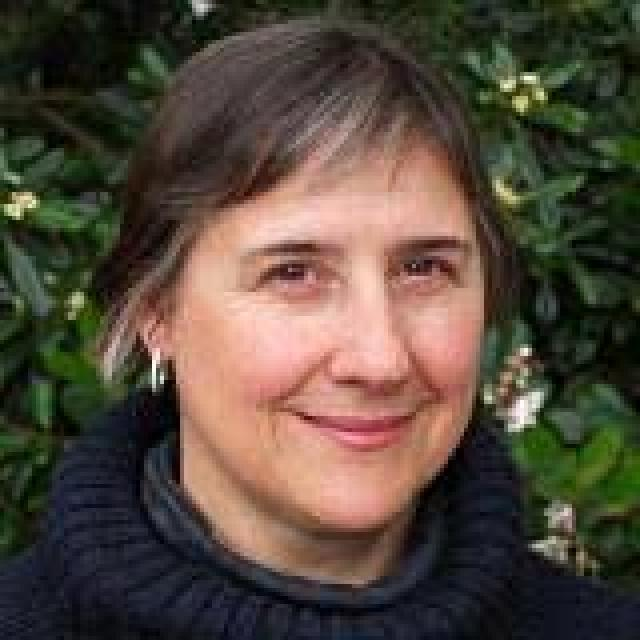normal_face: (145, 66, 496, 536)
